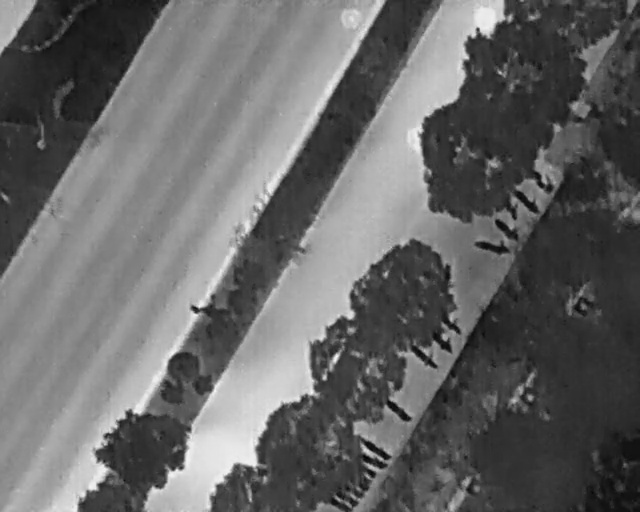Bicycle: (353, 430, 395, 465), (509, 182, 548, 218), (406, 337, 443, 373), (380, 391, 417, 427), (522, 160, 559, 195), (489, 213, 526, 246), (436, 306, 470, 339), (426, 325, 460, 358), (471, 233, 514, 258), (351, 446, 391, 471), (499, 196, 526, 224), (331, 484, 359, 509), (353, 460, 381, 482), (348, 467, 377, 488), (344, 473, 373, 494), (338, 478, 367, 499), (326, 495, 353, 511)
